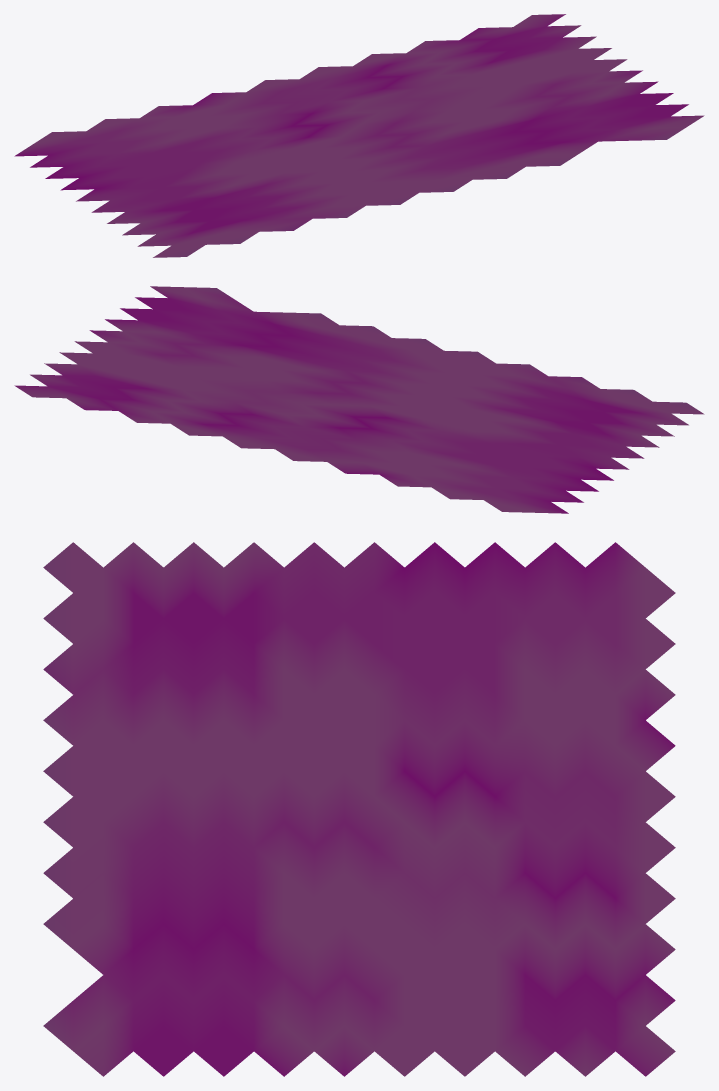
File: sea.fbx
The picture shows the model from 3 angles, top to bottom: view 1: azimuth 30°, elevation 25°; view 2: azimuth 150°, elevation 25°; view 3: azimuth 270°, elevation 25°; orthographic projection. The views are drawn at different scales.
Visible parts, largest first — view 1: sea; view 2: sea; view 3: sea.
Boxes of the visible parts, x1,y1,x2,y2 form: sea: (14, 14, 704, 257); sea: (14, 286, 704, 513); sea: (43, 542, 675, 1076).
Size of the model in its own units: 1008 by 9.79e-07 by 504.
